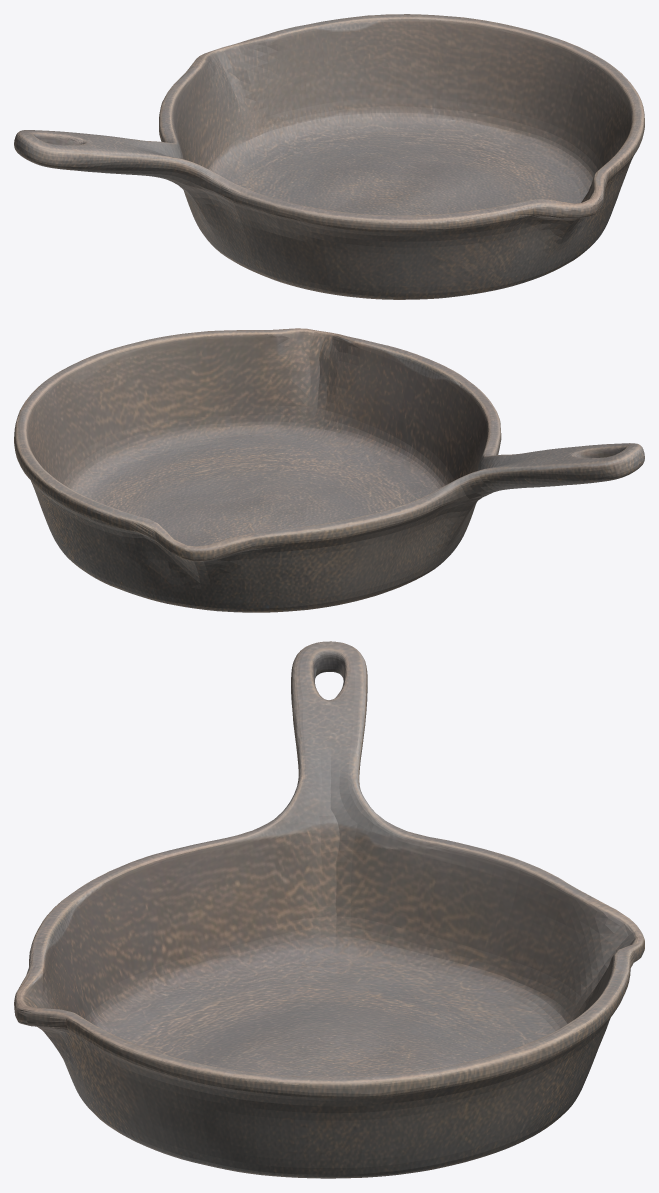
File: Pan2.fbx
The picture shows the model from 3 angles, top to bottom: view 1: azimuth 30°, elevation 25°; view 2: azimuth 150°, elevation 25°; view 3: azimuth 270°, elevation 25°; orthographic projection. The views are drawn at different scales.
Parts seen in each view (by area): view 1: Pan2_Low; view 2: Pan2_Low; view 3: Pan2_Low.
Boxes of the visible parts, x1,y1,x2,y2 form: Pan2_Low: [14, 14, 644, 299]; Pan2_Low: [14, 328, 644, 612]; Pan2_Low: [14, 641, 644, 1178].
Size of the model in its own units: 0.9993 by 0.2864 by 0.7469.
